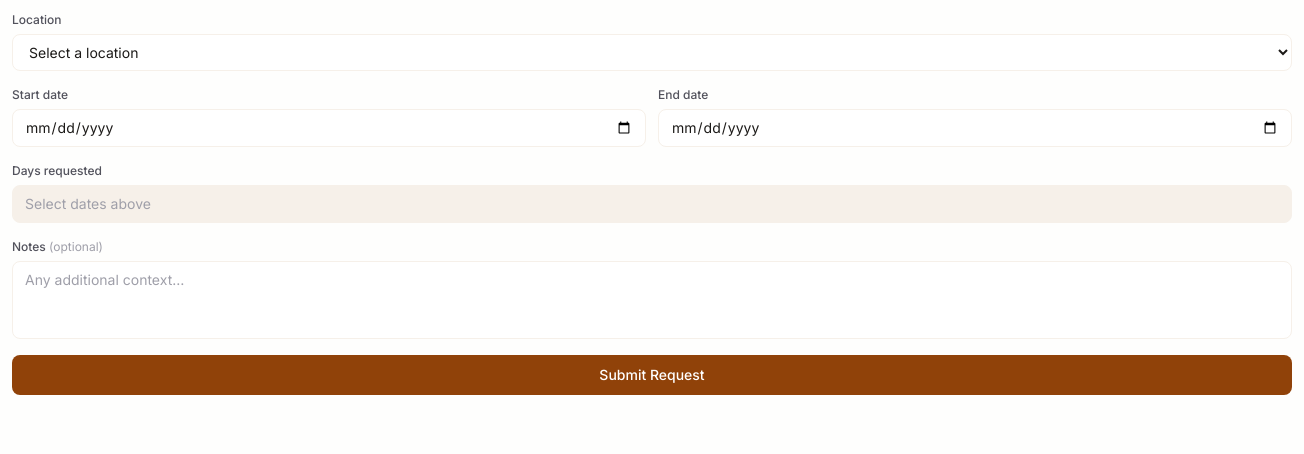
Scenario: RequestForm — balance info display › shows available and pending days when a location is selected
Select "London" in the dropdown labelled "Location": coordinates (652, 52) [12,34,1292,71]
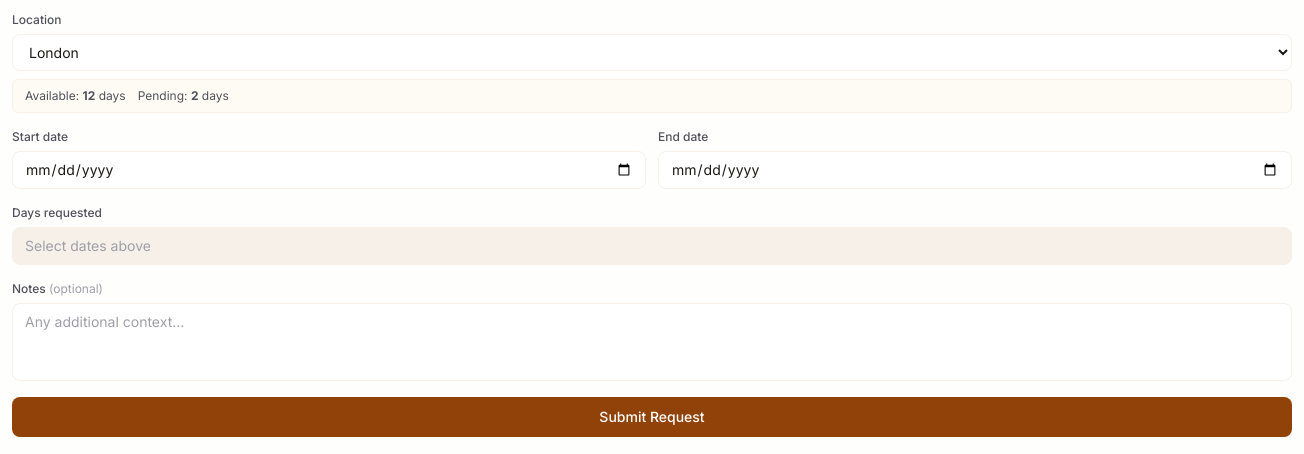
Expected: the text "Available: 12 days" is shown, [25,88,126,104]
Expected: the text "Pending: 2 days" is shown, [138,88,229,104]
